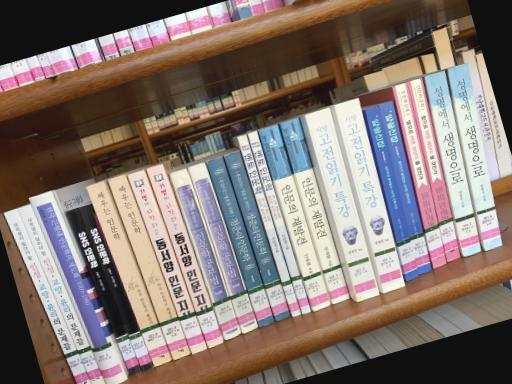book-spine: (29, 190, 128, 384), (86, 181, 173, 366), (17, 204, 105, 384), (107, 174, 191, 360), (4, 208, 92, 384), (127, 170, 208, 354), (305, 108, 380, 302), (146, 164, 224, 347), (335, 98, 406, 293), (258, 124, 331, 312), (279, 118, 351, 304), (66, 208, 141, 375), (78, 204, 153, 371), (169, 168, 241, 341), (188, 163, 258, 334), (206, 156, 275, 327), (238, 134, 302, 317), (248, 131, 311, 314), (224, 151, 291, 321), (424, 70, 482, 257), (447, 63, 503, 251), (392, 82, 447, 269), (407, 77, 460, 262), (365, 106, 419, 281), (379, 101, 432, 274)
